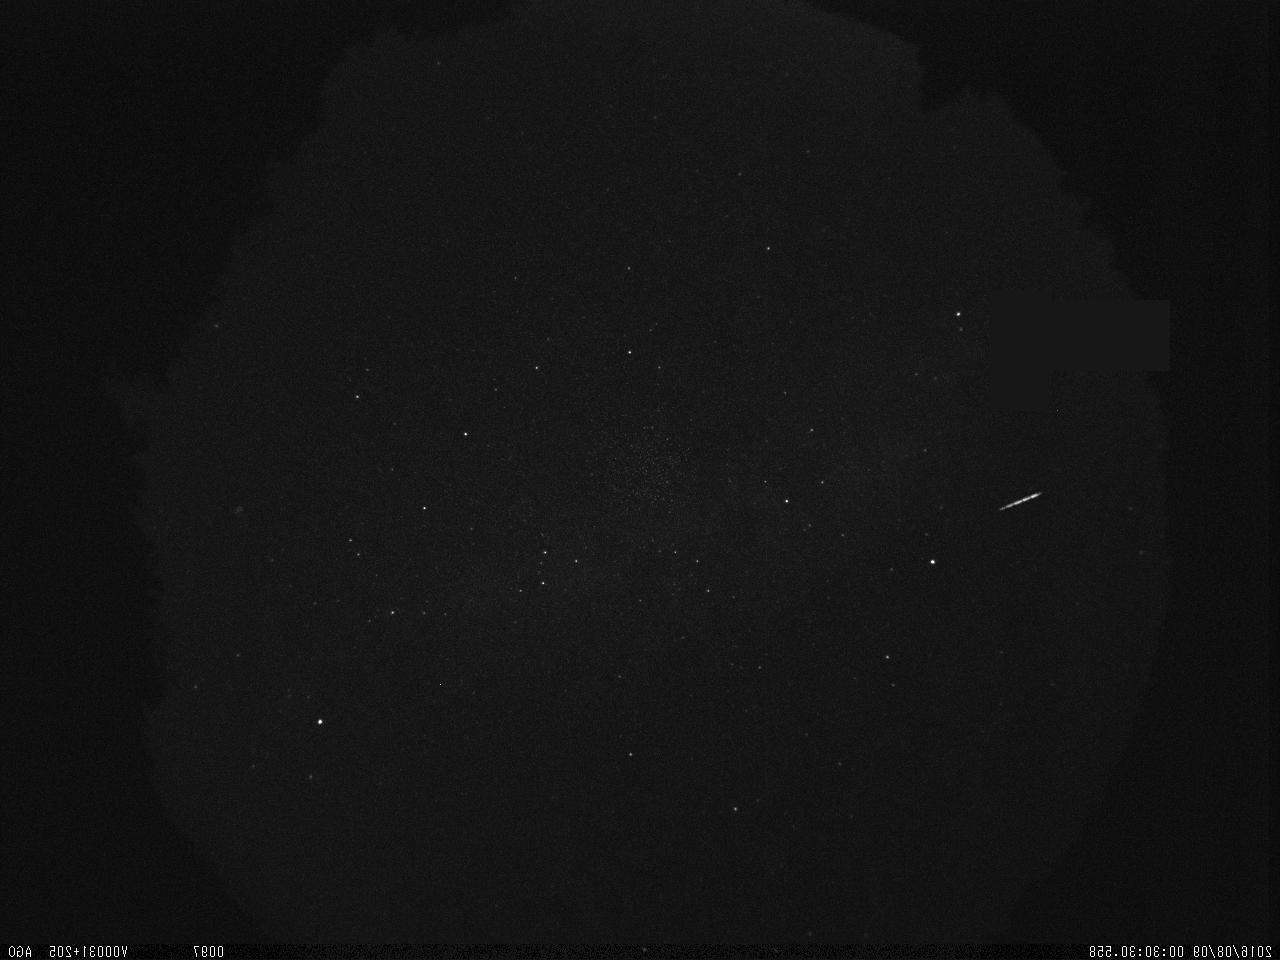meteor: (979, 479, 1056, 524)
